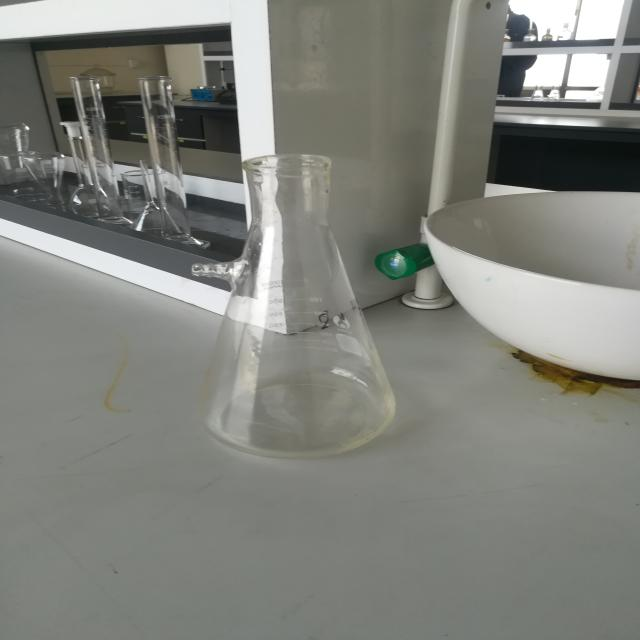Conical_Flask: (160, 131, 435, 480)
